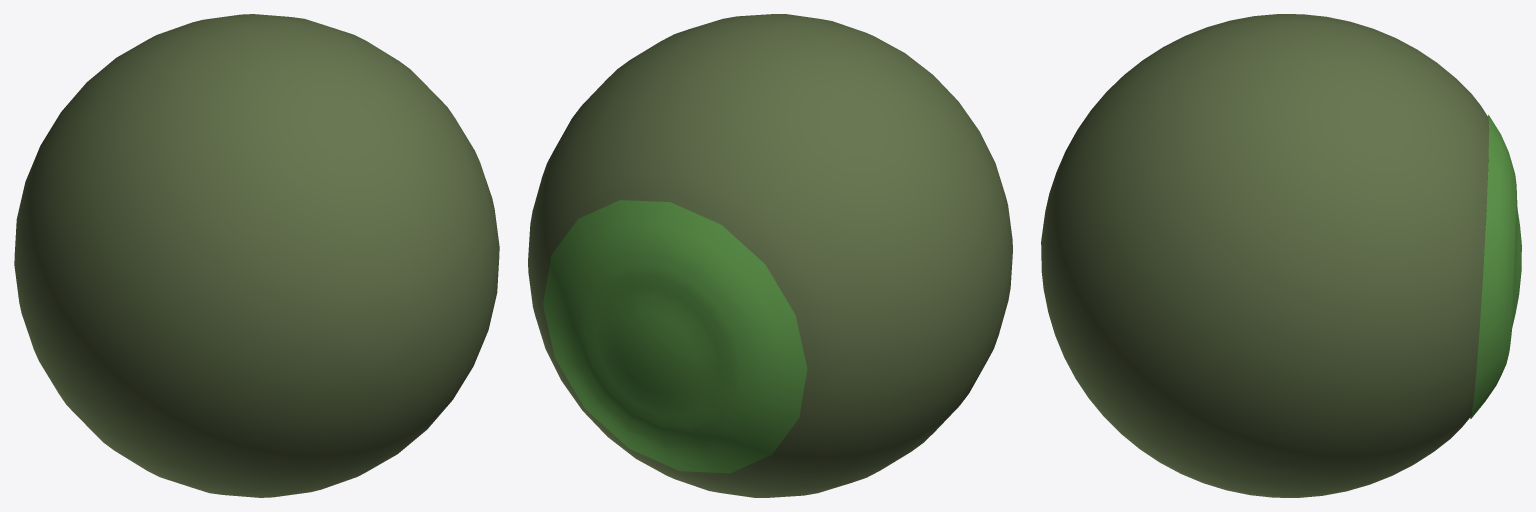
Rendered from CyborgEye.fbx.
3 renders of one model, left to right at view 1: azimuth 30°, elevation 25°; view 2: azimuth 150°, elevation 25°; view 3: azimuth 270°, elevation 25°, orthographic.
Parts seen in each view (by area): view 1: polySurface1; view 2: polySurface1; view 3: polySurface1.
Boxes of the visible parts, bbox=[...] form: polySurface1: bbox=[14, 14, 499, 497]; polySurface1: bbox=[528, 14, 1012, 497]; polySurface1: bbox=[1041, 14, 1521, 497].
Bounding box in the file's own units: 88.77 × 88.73 × 88.03.
